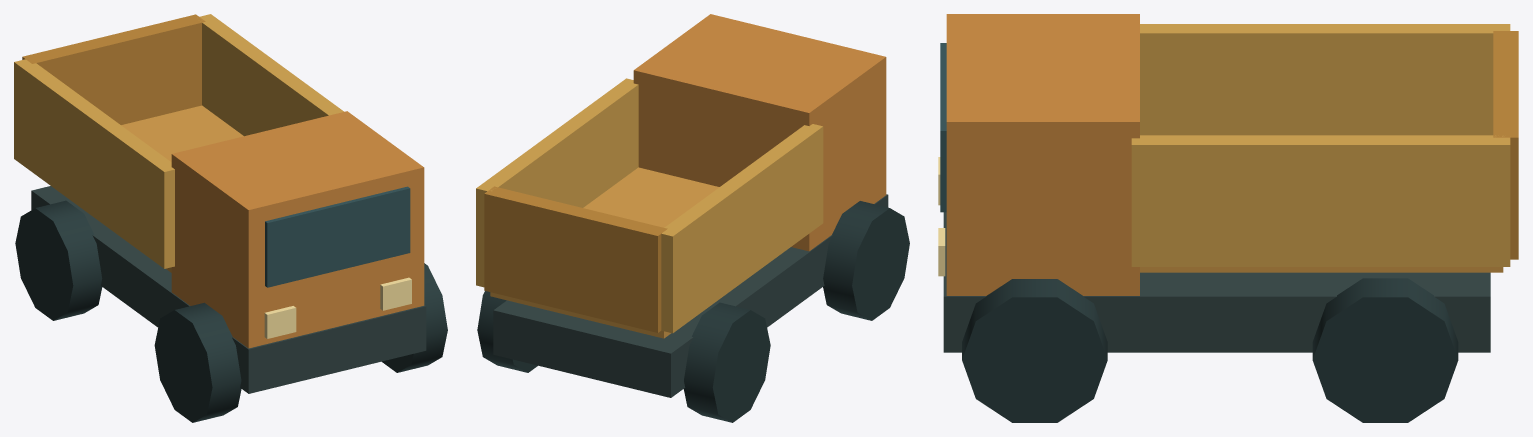
The model's file is dump-truck.glb.
The picture shows the model from 3 angles, left to right: view 1: azimuth 30°, elevation 25°; view 2: azimuth 150°, elevation 25°; view 3: azimuth 270°, elevation 25°; orthographic projection. The views are drawn at different scales.
Parts seen in each view (by area): view 1: dump-truck, dumpBed_ddab50, dump-truck_293c3d, dumpBed, dump-truck_ffe8a4; view 2: dump-truck, dumpBed_ddab50, dumpBed, dump-truck_293c3d; view 3: dumpBed_ddab50, dump-truck, dump-truck_293c3d, dumpBed, dump-truck_ffe8a4.
Boxes of the visible parts, x1,y1,x2,y2 form: dump-truck: (31, 111, 426, 393); dumpBed_ddab50: (14, 14, 343, 268); dump-truck_293c3d: (15, 200, 447, 422); dumpBed: (22, 14, 243, 272); dump-truck_ffe8a4: (264, 277, 411, 338); dump-truck: (493, 14, 888, 397); dumpBed_ddab50: (476, 78, 823, 333); dumpBed: (484, 167, 719, 338); dump-truck_293c3d: (477, 201, 909, 422); dumpBed_ddab50: (1131, 24, 1510, 266); dump-truck: (940, 14, 1490, 352); dump-truck_293c3d: (962, 278, 1458, 422); dumpBed: (1140, 31, 1518, 272); dump-truck_ffe8a4: (938, 157, 945, 276).
Size of the model in its own units: 1.22 by 1.11 by 2.07.
